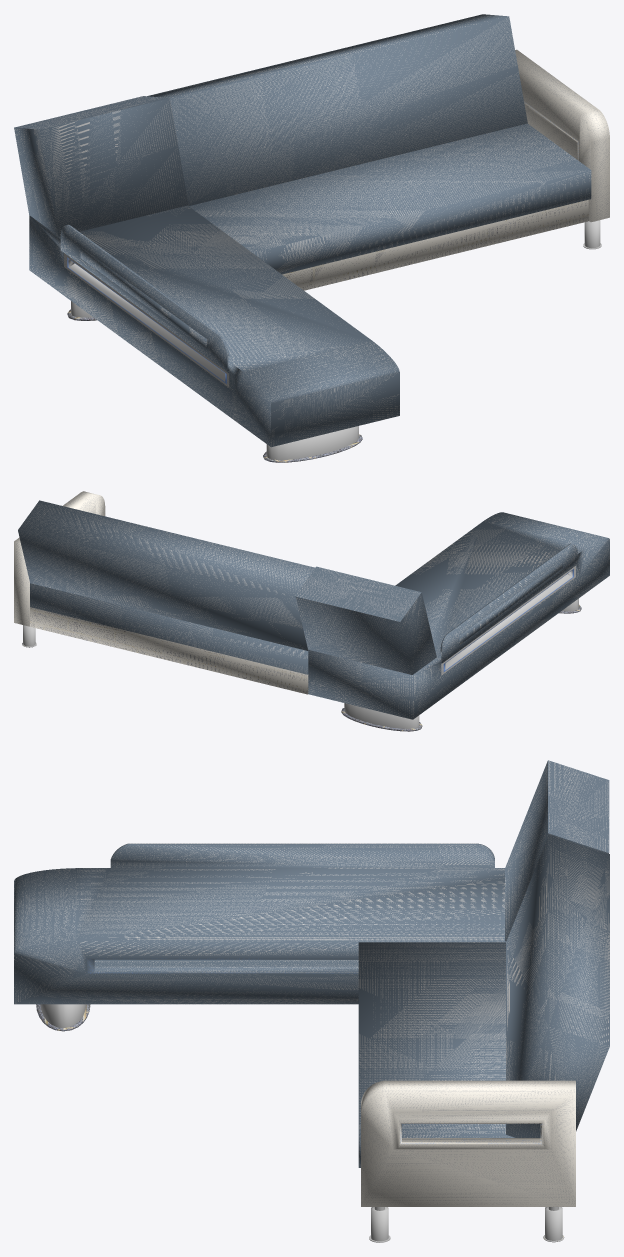
The model's file is kevkoltuk.dae.
3 renders of one model, top to bottom at view 1: azimuth 30°, elevation 25°; view 2: azimuth 150°, elevation 25°; view 3: azimuth 270°, elevation 25°, orthographic. The views are drawn at different scales.
Parts seen in each view (by area): view 1: Component (×10); view 2: Component (×11); view 3: Component (×10).
Part boxes in pixels (x1,y1,x2,y2): Component (×10): [14, 14, 609, 459]; Component (×11): [14, 491, 609, 728]; Component (×10): [14, 760, 609, 1206].
Bounding box in the file's own units: 103 × 93.21 × 36.29.
